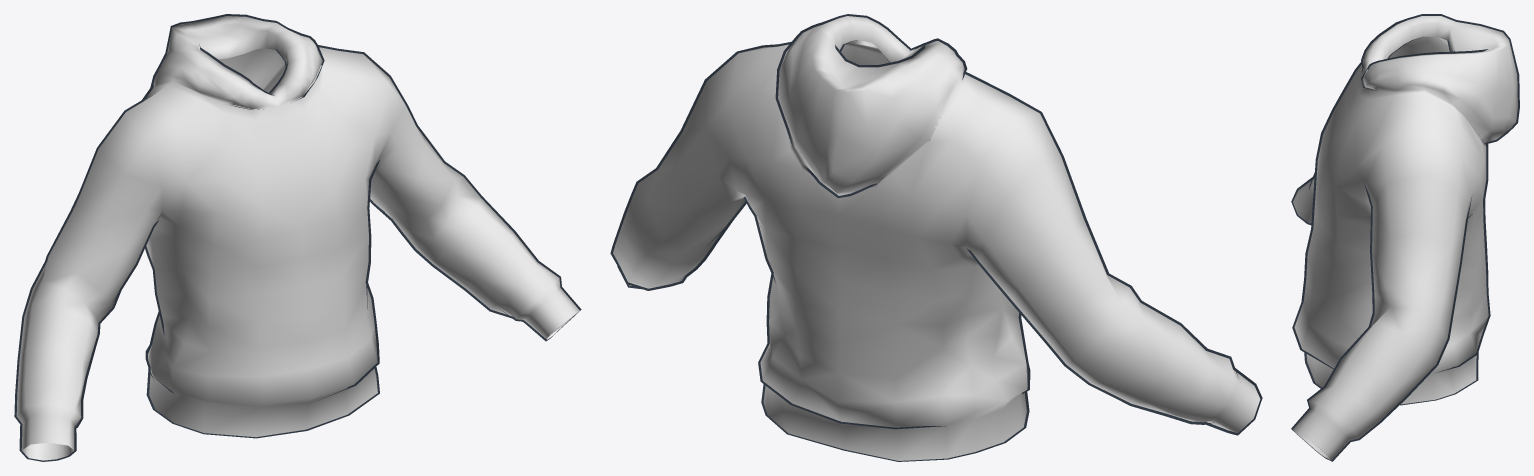
Rendered from hoodie_test.glb.
3 views of the same model, side by side, from view 1: azimuth 30°, elevation 25°; view 2: azimuth 150°, elevation 25°; view 3: azimuth 270°, elevation 25° (orthographic). The views are drawn at different scales.
Visible parts, largest first — view 1: hoodie_lowres; view 2: hoodie_lowres; view 3: hoodie_lowres.
Part boxes in pixels (x1,y1,x2,y2): hoodie_lowres: (14, 14, 581, 461); hoodie_lowres: (610, 14, 1262, 461); hoodie_lowres: (1291, 14, 1519, 461).
Bounding box in the file's own units: 0.9784 × 0.585 × 0.3696.
